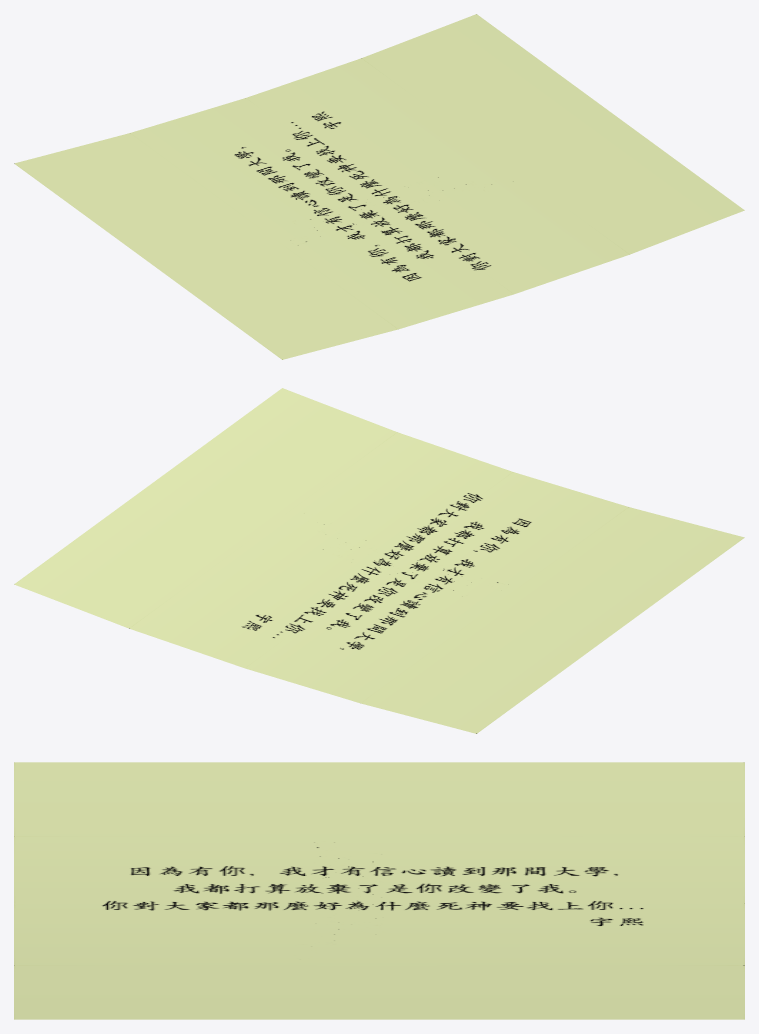
Rendered from 便條紙第4個內容.fbx.
3 renders of one model, top to bottom at view 1: azimuth 30°, elevation 25°; view 2: azimuth 150°, elevation 25°; view 3: azimuth 270°, elevation 25°, orthographic. The views are drawn at different scales.
Parts seen in each view (by area): view 1: 便條紙內容4; view 2: 便條紙內容4; view 3: 便條紙內容4.
Boxes of the visible parts, left/top/right/bottom form: 便條紙內容4: left=14, top=14, right=744, bottom=359; 便條紙內容4: left=14, top=388, right=744, bottom=733; 便條紙內容4: left=14, top=762, right=744, bottom=1019.
Size of the model in its own units: 2.94 by 0.2224 by 2.95.
1 material, 1 textured.
